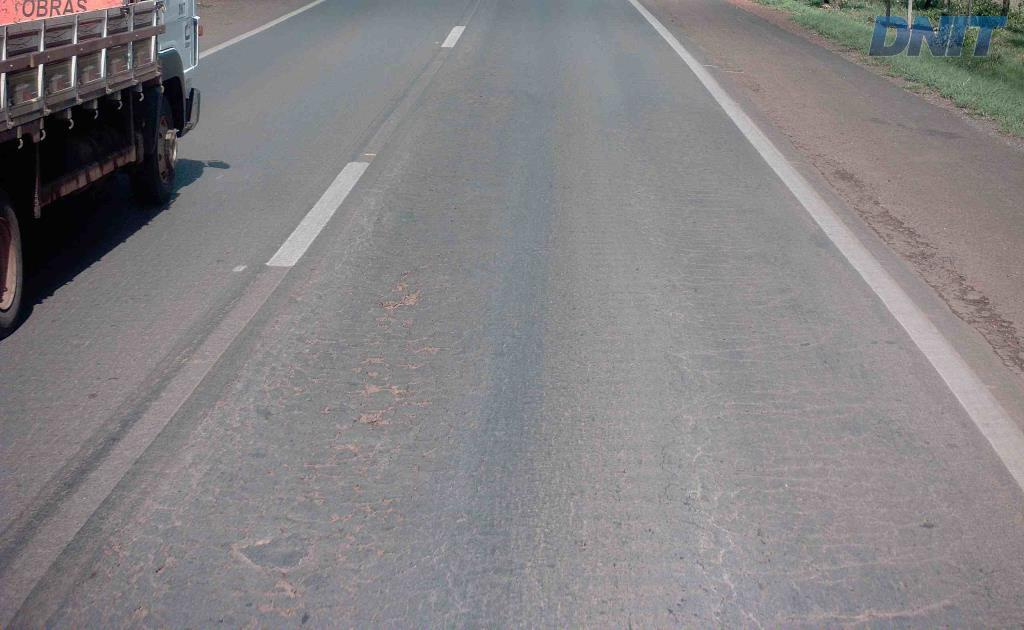pothole: (370, 260, 425, 316), (343, 403, 402, 430), (353, 376, 418, 396)
